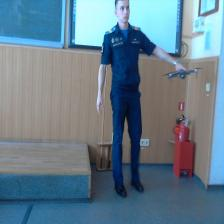drone: (162, 63, 202, 81)
